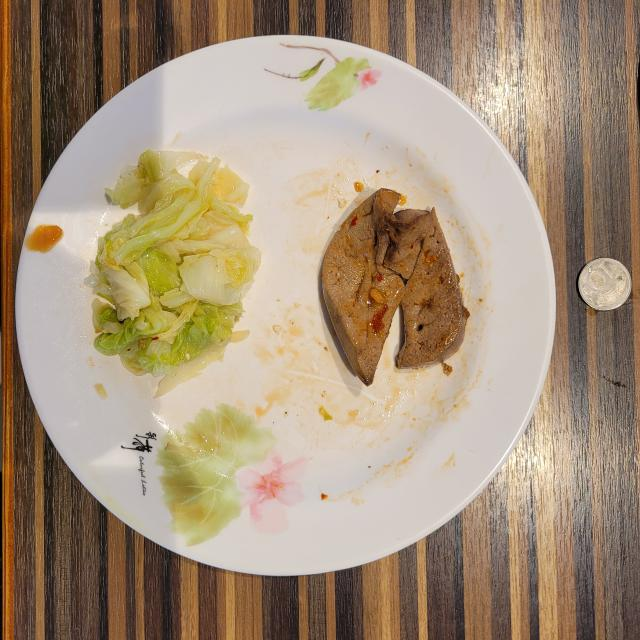cabbage: (88, 151, 260, 376)
coin: (578, 258, 631, 311)
pig liver: (322, 189, 469, 385)
